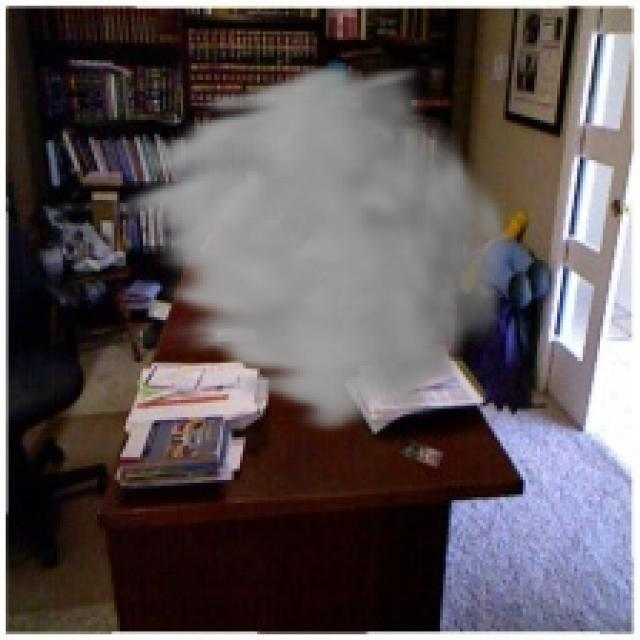Smoke: (109, 60, 518, 437)
